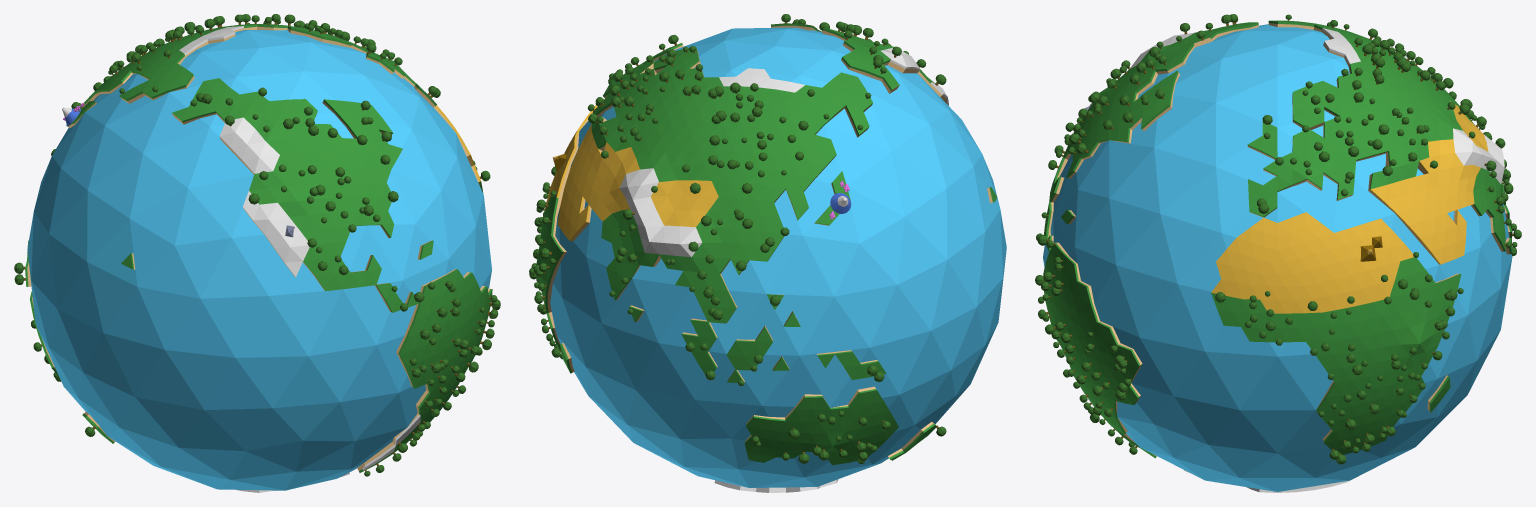
File: earth.gltf
3 renders of one model, left to right at view 1: azimuth 30°, elevation 25°; view 2: azimuth 150°, elevation 25°; view 3: azimuth 270°, elevation 25°, orthographic.
Visible parts, largest first — view 1: Earth; view 2: Earth; view 3: Earth.
Boxes of the visible parts, x1=… form: Earth: x1=14, y1=14, x2=500, y2=492; Earth: x1=529, y1=14, x2=1006, y2=492; Earth: x1=1035, y1=14, x2=1521, y2=492.
Bounding box in the file's own units: 2.15 × 2.11 × 2.18.
